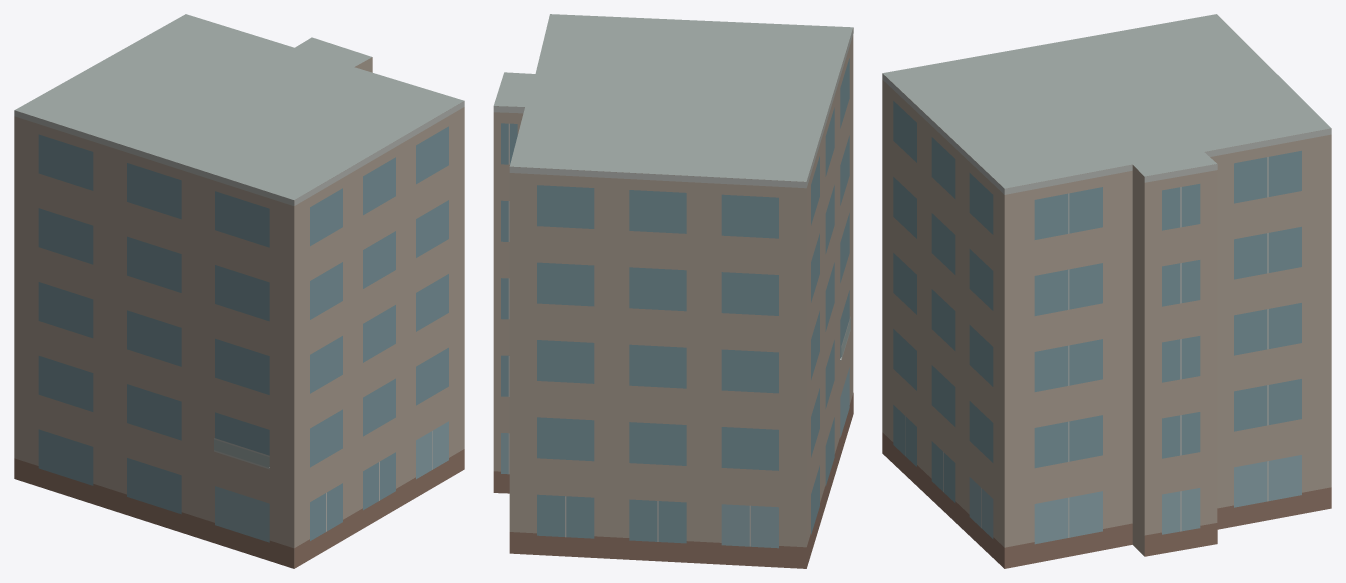
Rendered from survey-upis-32757832.glb.
3 views of the same model, side by side, from view 1: azimuth 30°, elevation 25°; view 2: azimuth 150°, elevation 25°; view 3: azimuth 270°, elevation 25° (orthographic). The views are drawn at different scales.
Parts seen in each view (by area): view 1: survey-upis-32757832.tmp; view 2: survey-upis-32757832.tmp; view 3: survey-upis-32757832.tmp.
Boxes of the visible parts, box(x1,y1,x2,y2) form: survey-upis-32757832.tmp: box(14, 14, 464, 568); survey-upis-32757832.tmp: box(493, 14, 853, 568); survey-upis-32757832.tmp: box(882, 14, 1331, 568).
Bounding box in the file's own units: 14.7 × 14.9 × 15.97.
